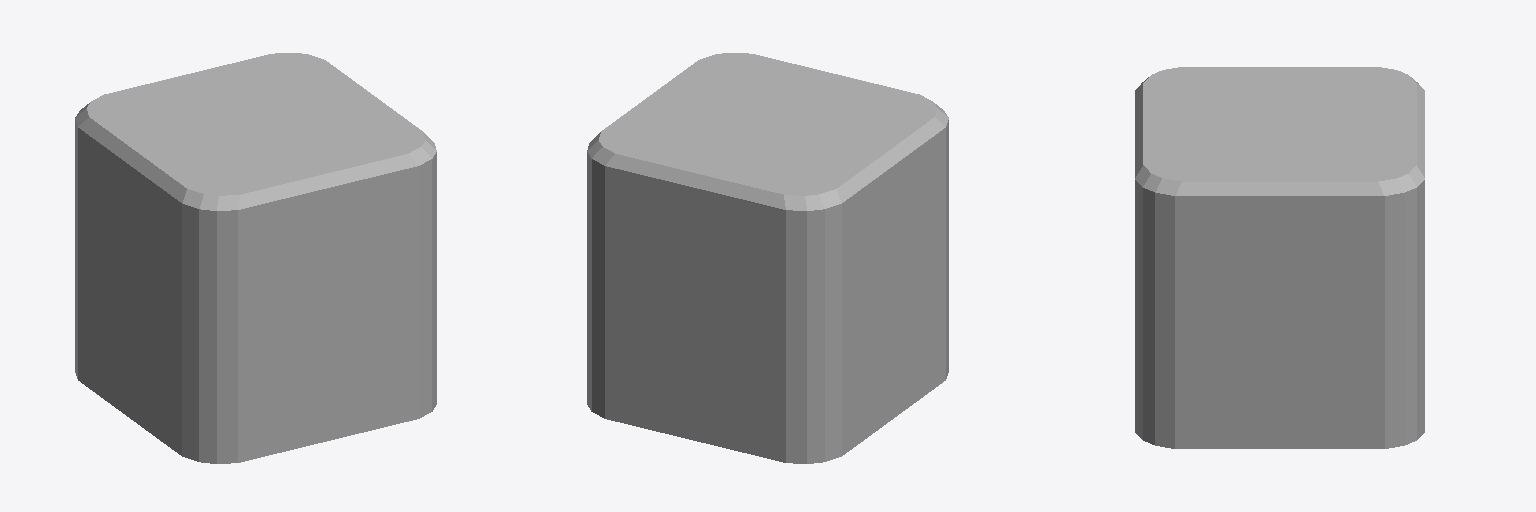
The model's file is Tile Visual.obj.
The picture shows the model from 3 angles: view 1: azimuth 30°, elevation 25°; view 2: azimuth 150°, elevation 25°; view 3: azimuth 270°, elevation 25°; orthographic projection.
Parts seen in each view (by area): view 1: Tile Visual; view 2: Tile Visual; view 3: Tile Visual.
Boxes of the visible parts, <box> form: Tile Visual: <box>75,53,436,463</box>; Tile Visual: <box>587,53,948,463</box>; Tile Visual: <box>1135,67,1424,448</box>.
Size of the model in its own units: 1 by 1 by 1.